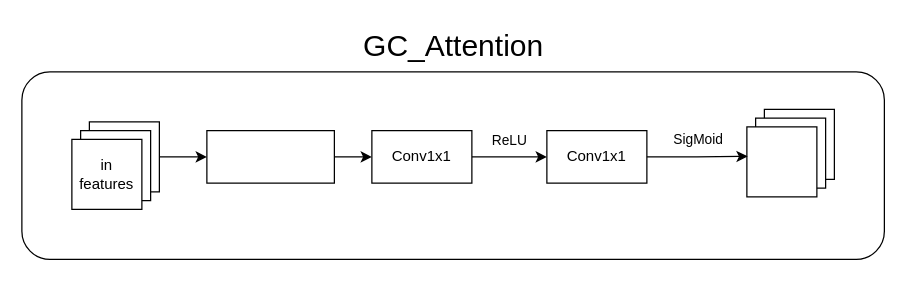
The diagram is 906 pixels wide and 281 high, and some of its shapes have lost their labels. The shapes that lost their labels are listed below. From the top down, each one's centre as x and y in pixels, then its label:
At [270,156]: "Ave Pooling".
At [781,161]: "out features".
